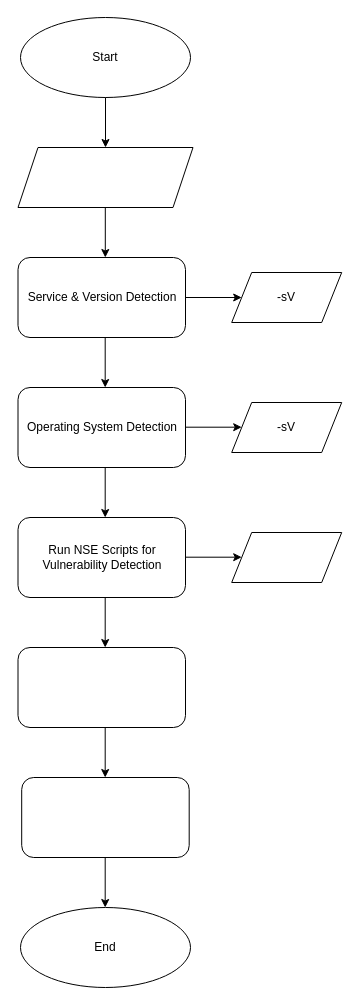
This 359x1005 diagram has some shape labels left out. Here are the shapes that lost their labels. From the top down, the box of each, then its label:
(17, 146, 193, 208): Define Target IP or Host
(231, 532, 342, 582): --script vuln
(17, 646, 186, 728): Analyze Results
(21, 776, 189, 858): Generate Report
